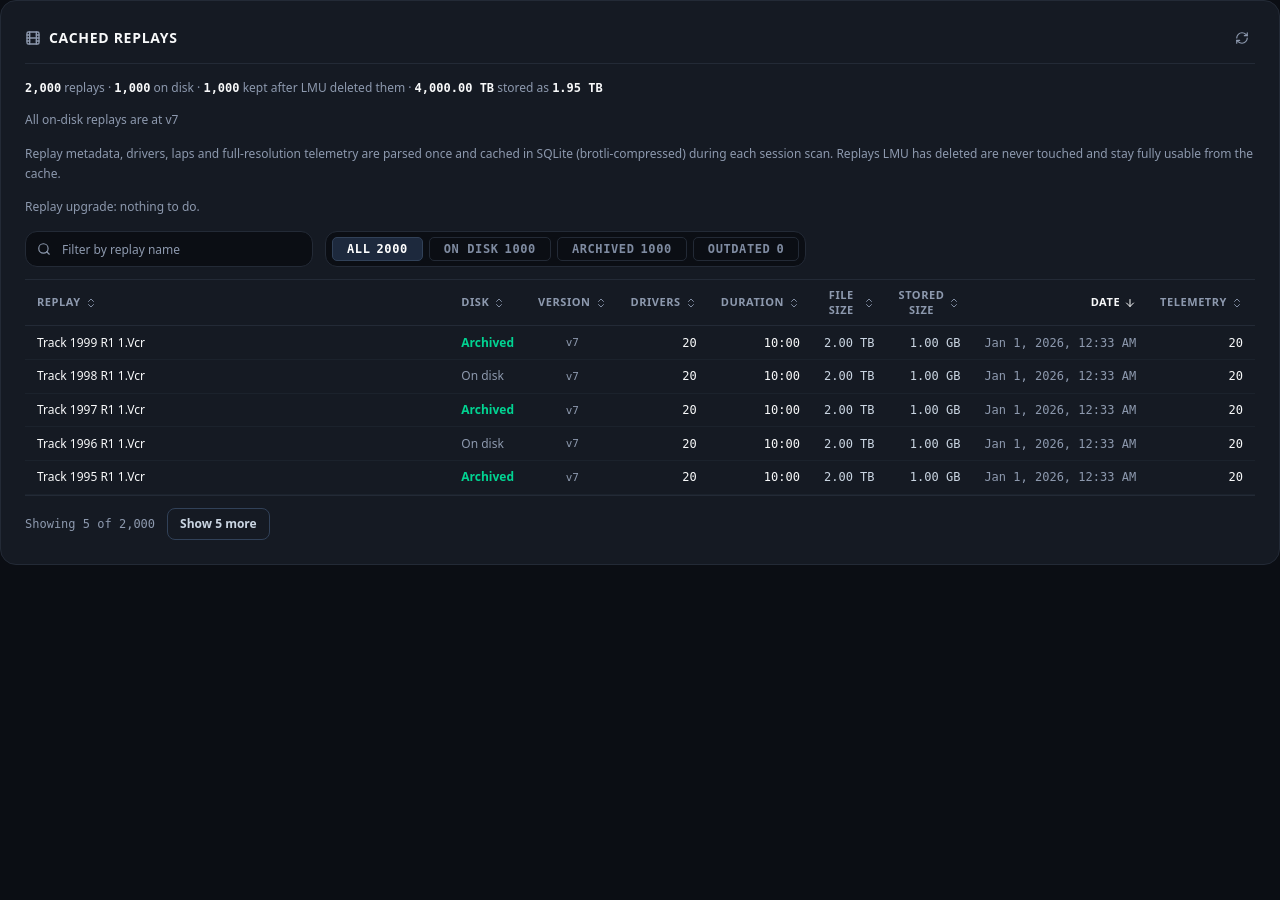
Scenario: Cached replays at scale › draws one page of 2,000 rows and grows by one page, with separators on the totals
This screenshot has width=1280, height=900.
Expected: the element named "Cached replays" is shown, [25,279,1255,496]
Expected: the text "Showing 5 of 2,000" is shown, [25,516,155,532]
Click the button "Show 5 more" at (218, 524), box [167,508,270,540]
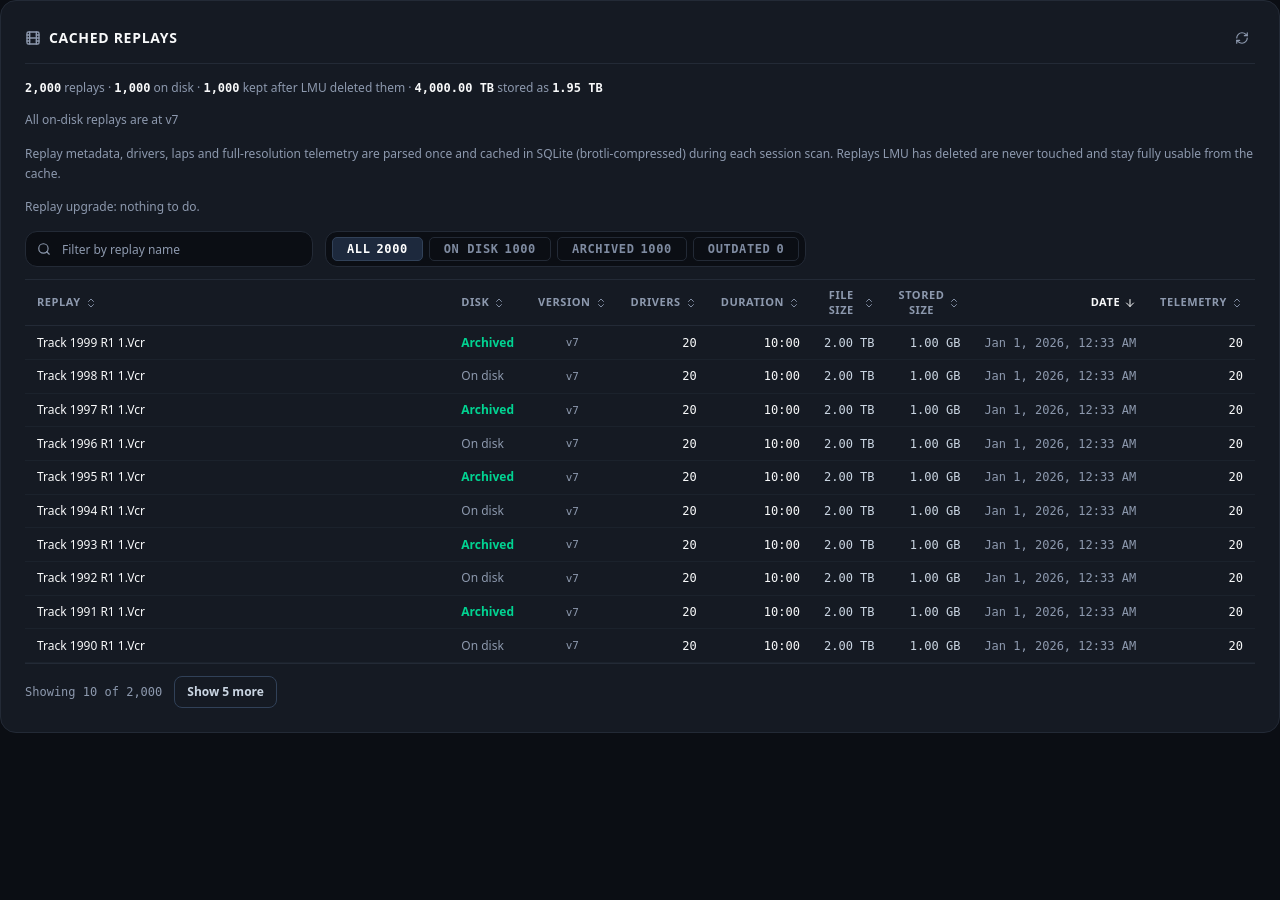
Expected: the text "Showing 10 of 2,000" is shown, [25,684,162,700]
